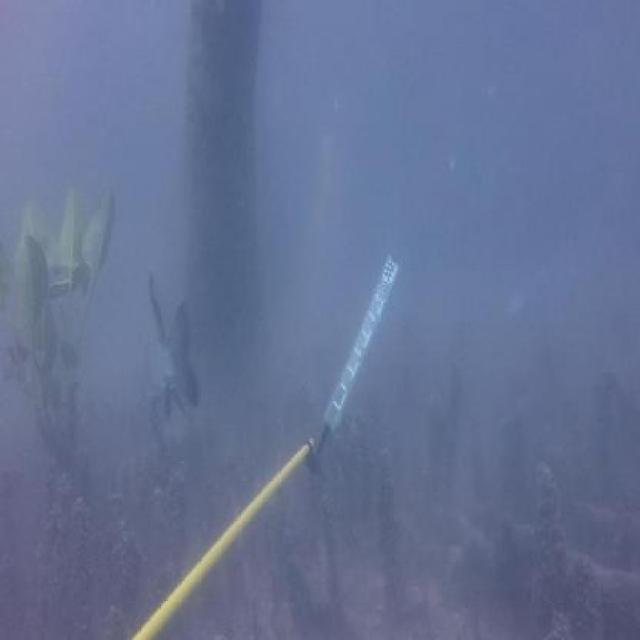acanthopagrus_palmaris: (138, 270, 210, 416)
